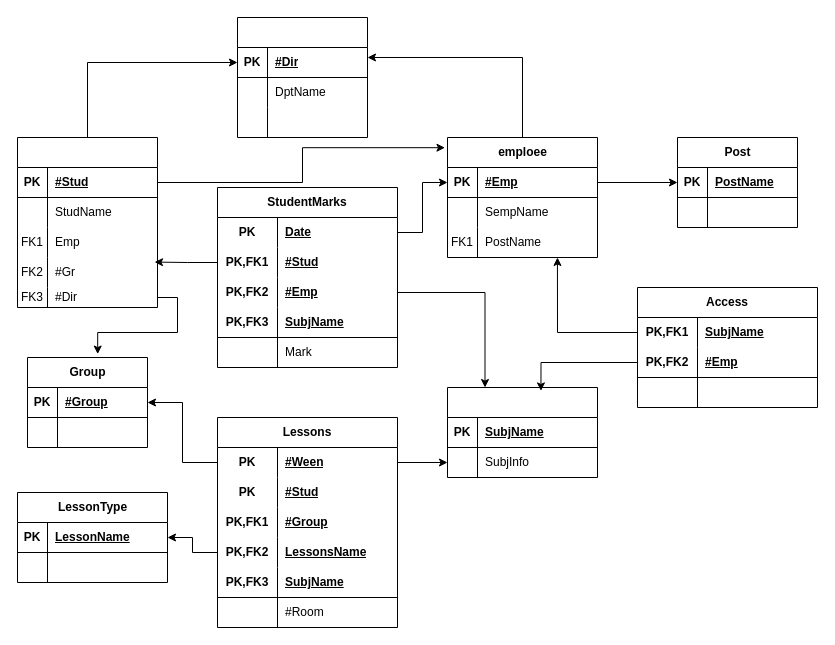
Image size: 835x645. Some labels were removed from this diagram. Here are the shapes that lost their labels. From the top down, the box of each, then its label:
(236, 16, 368, 138): Director
(16, 136, 158, 308): student
(446, 386, 598, 478): Subject
